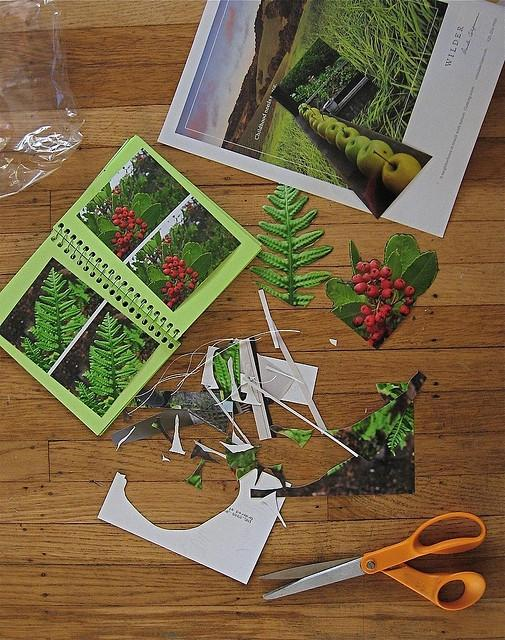apple: (374, 150, 423, 195), (357, 140, 394, 178), (345, 136, 370, 162), (335, 127, 360, 152), (325, 122, 348, 146), (317, 114, 338, 140), (312, 115, 330, 134), (305, 108, 320, 120), (298, 105, 310, 117), (298, 103, 307, 111)
